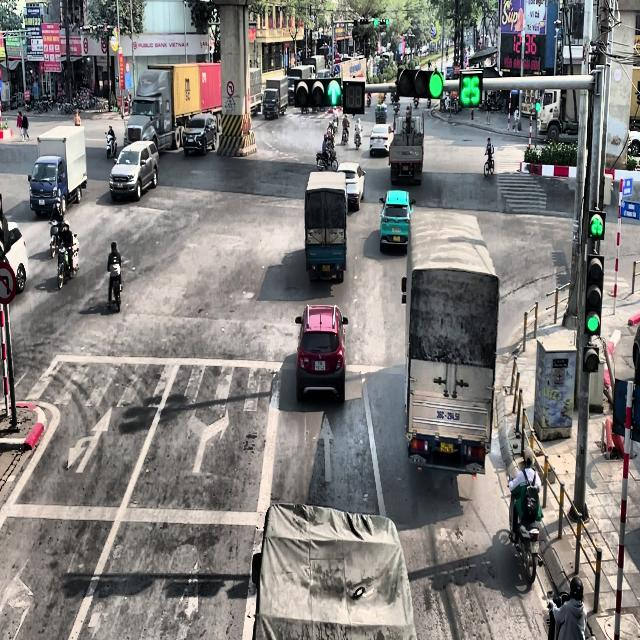lisence_plate: (433, 402, 462, 423), (438, 440, 455, 454), (313, 359, 326, 372), (320, 263, 331, 274), (403, 164, 409, 172), (377, 138, 382, 144), (394, 236, 401, 240)
